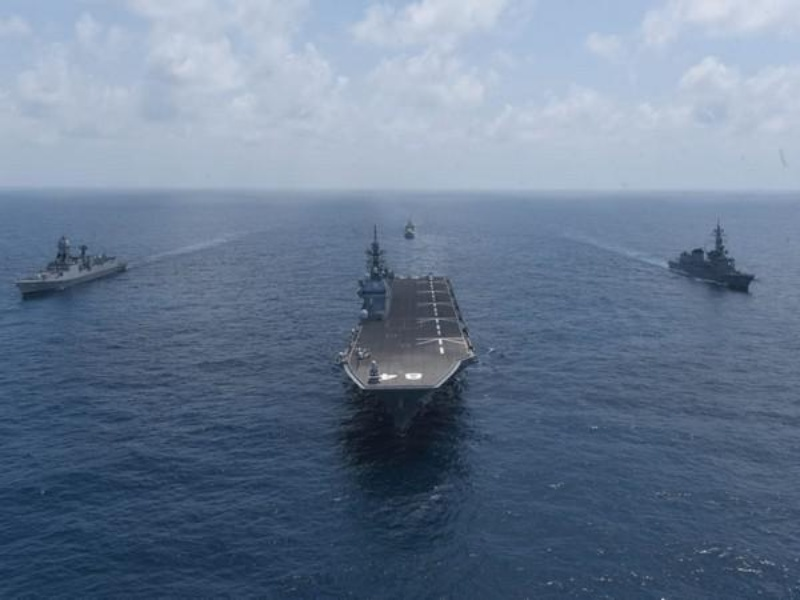carrier: (355, 250, 477, 429)
cruise: (17, 239, 127, 298), (667, 226, 760, 295), (401, 216, 420, 240)
